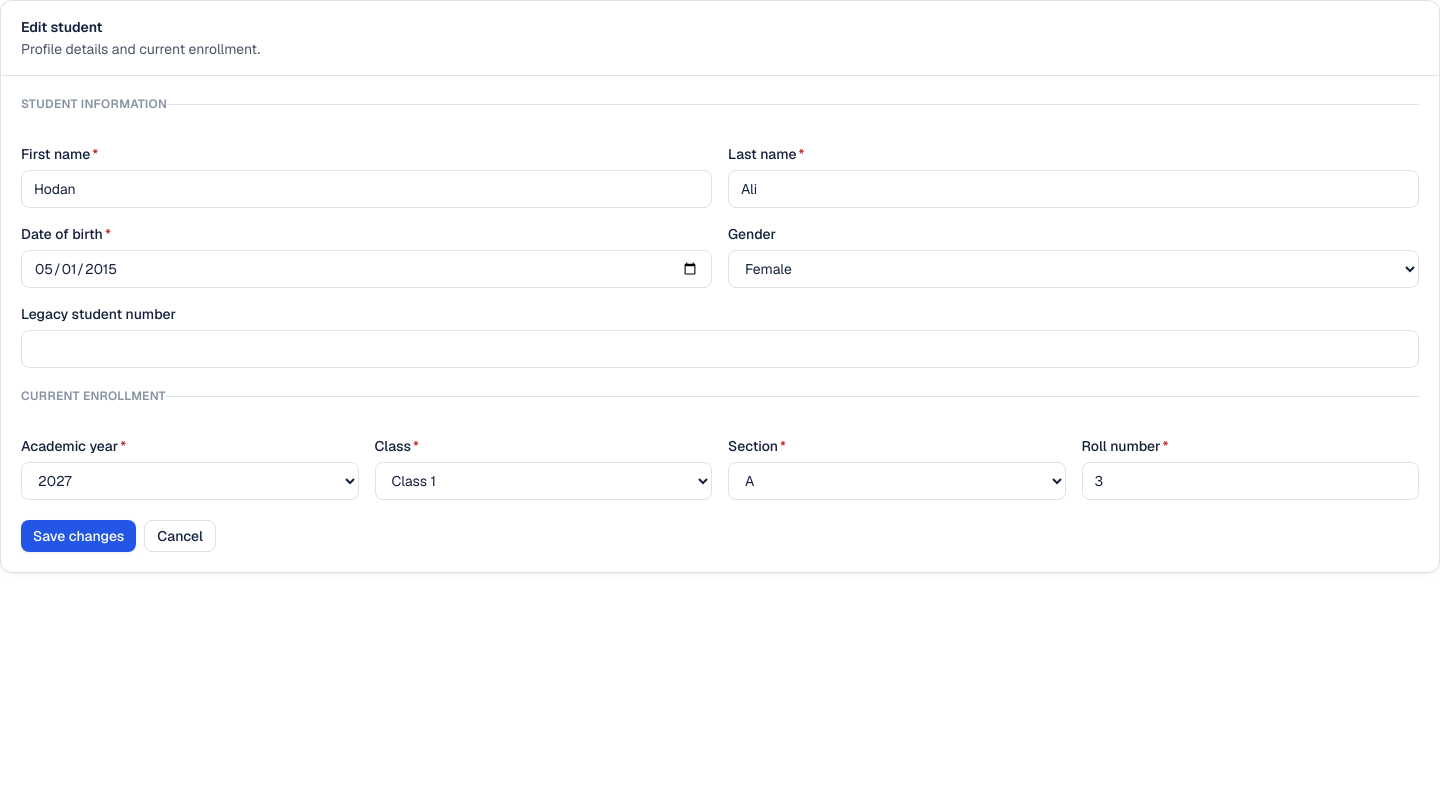
Test: EditStudentForm — submit › shows the ApiError's own message when saving fails
The image size is (1440, 810).
Click the button "Save changes" at [79, 536], box [21,520,136,552]
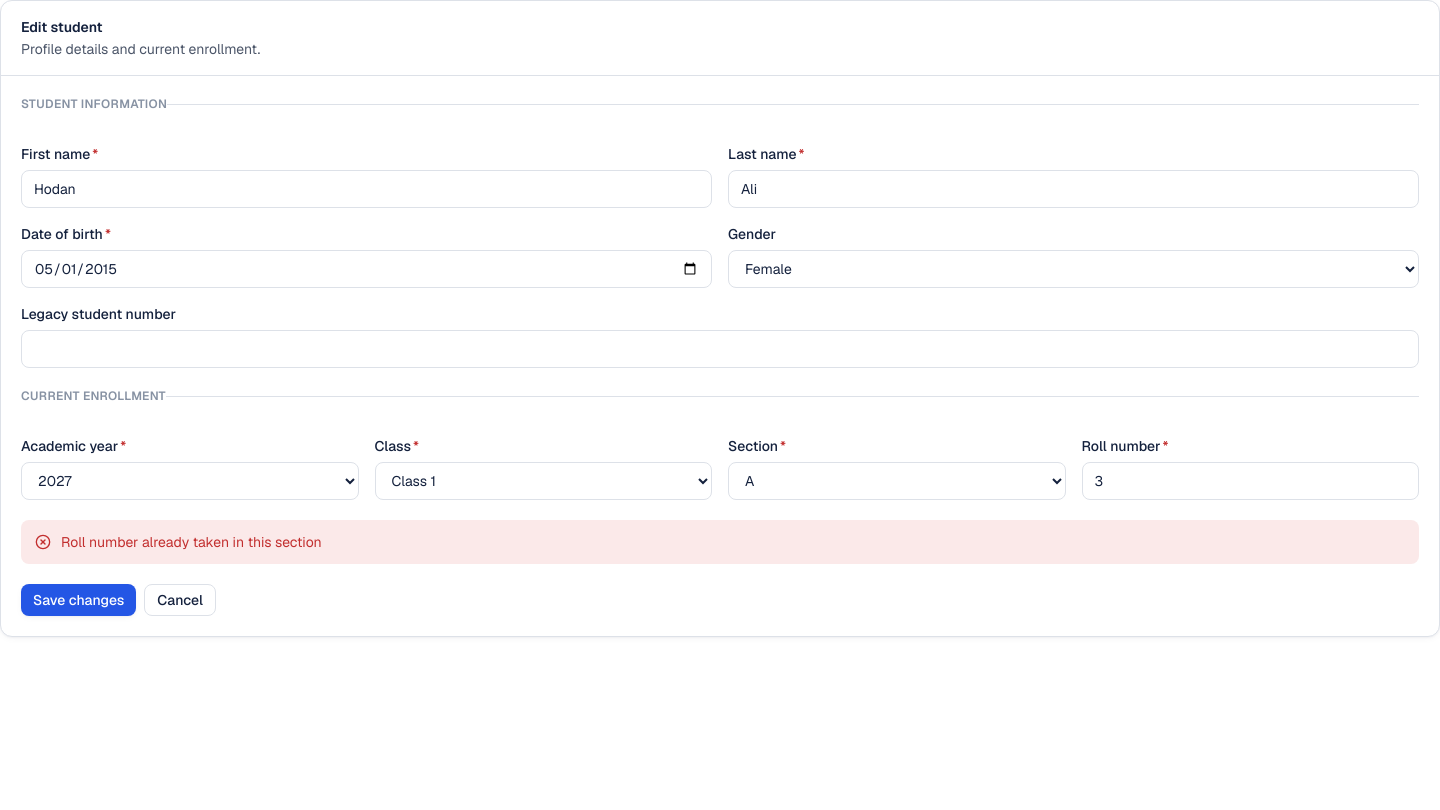
Expected: the text "Roll number already taken in this section" is shown, [61,532,322,552]
